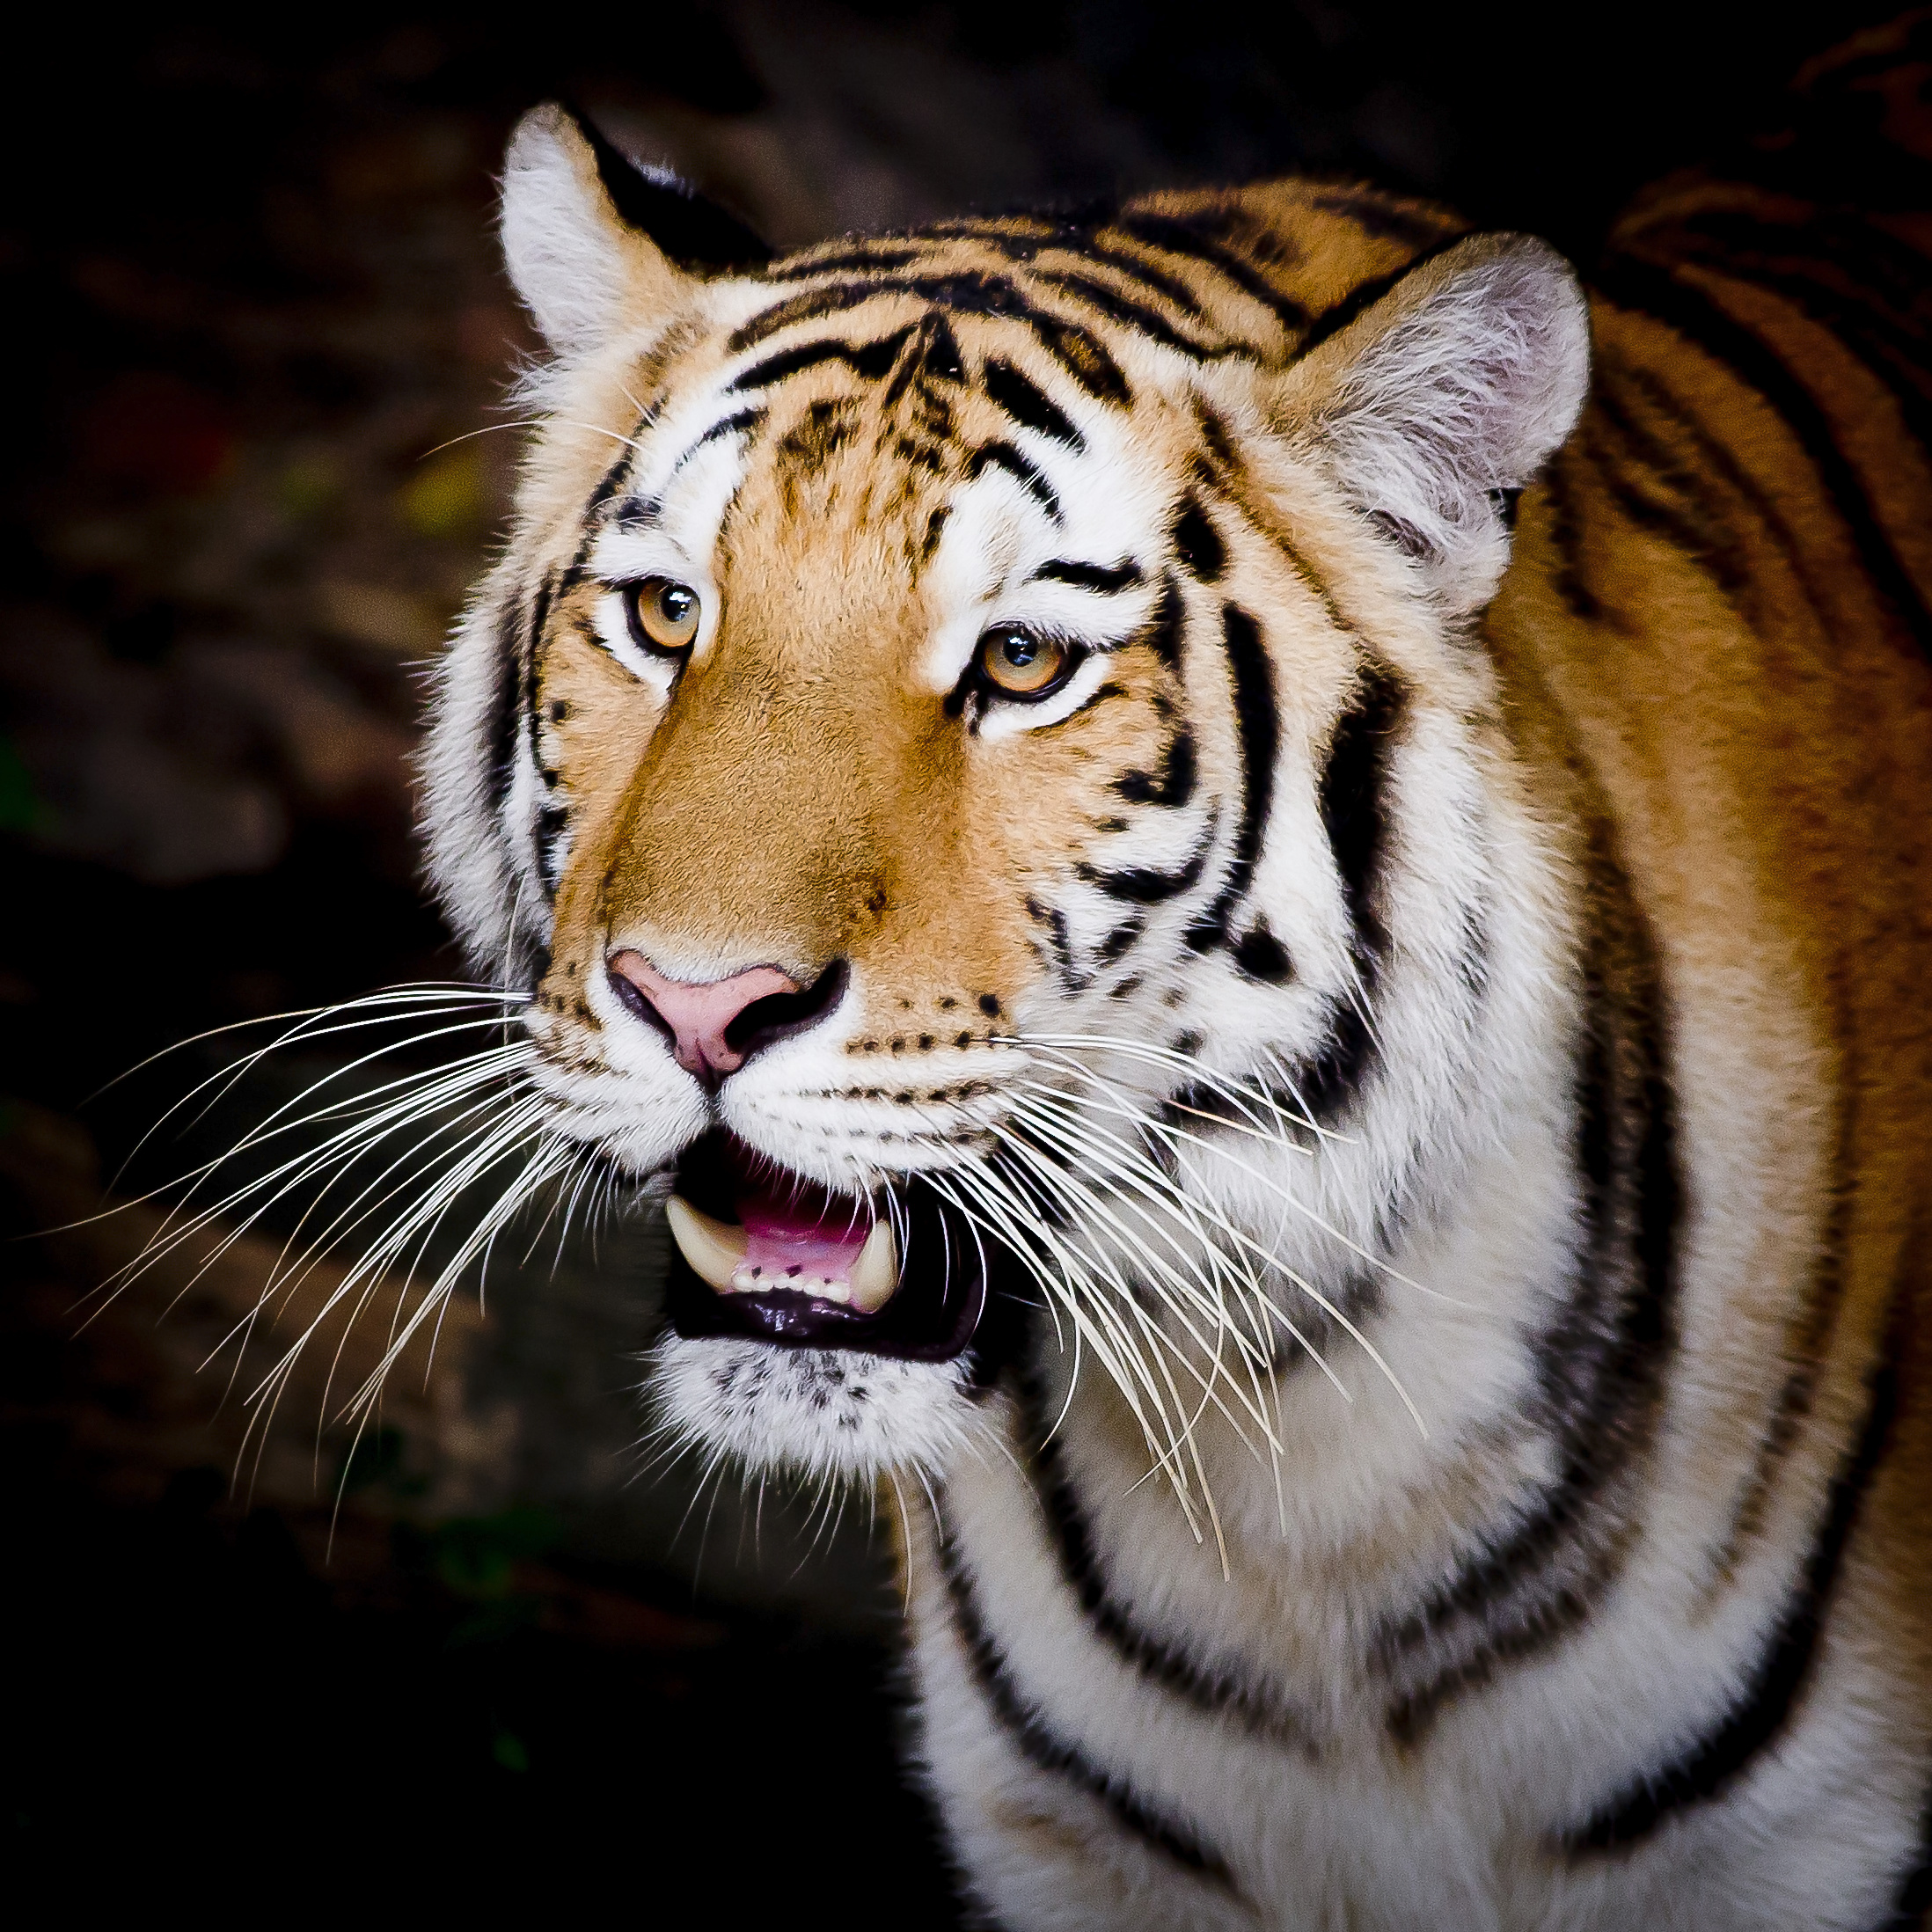tiger: (389, 81, 1851, 1824)
